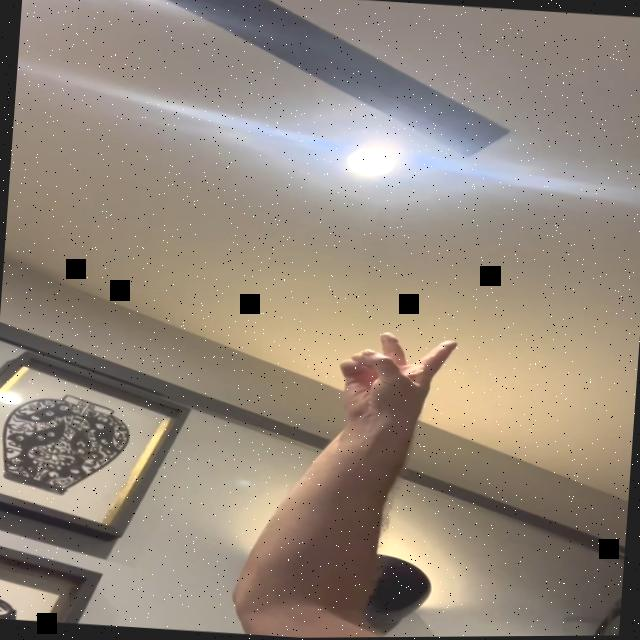Scissors: (334, 326, 458, 418)
